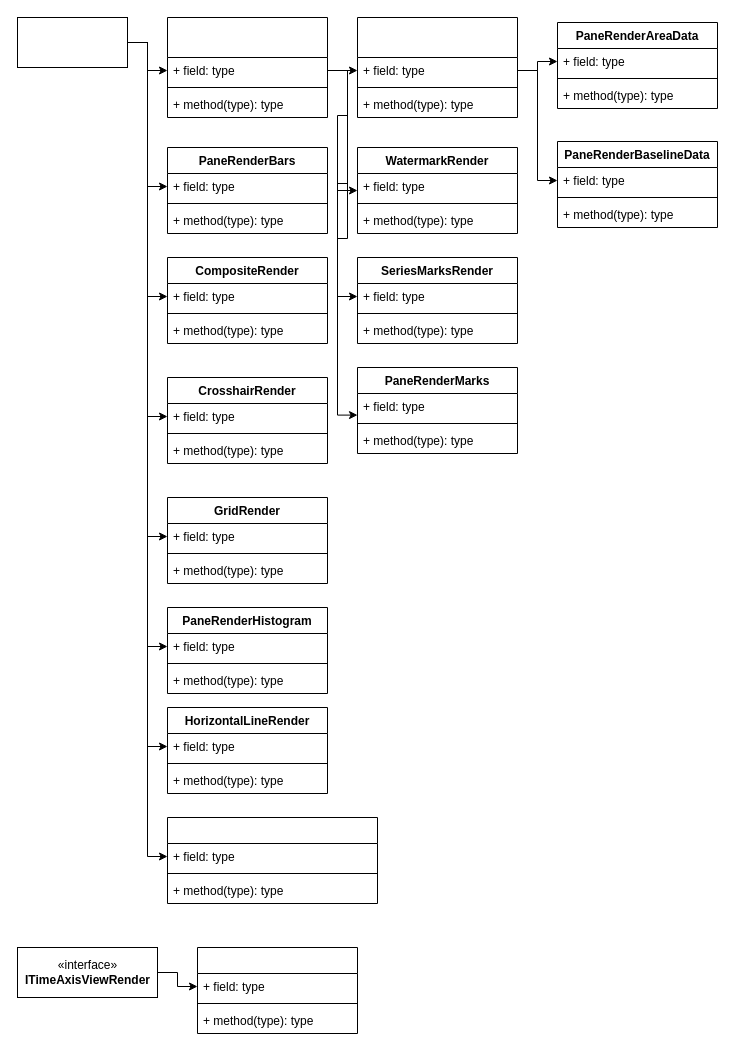
The diagram is 735 pixels wide and 1054 high, and some of its shapes have lost their labels. Each missing label, with the box of its shape:
abstract PaneRenderAreaBase: (356, 16, 518, 118)
abstract ScaledRender: (166, 16, 328, 118)
SeriesLastPriceAnimationRender: (166, 816, 378, 904)
TimeAxisViewRender: (196, 946, 358, 1034)
«interface» IPaneRender: (16, 16, 128, 68)
